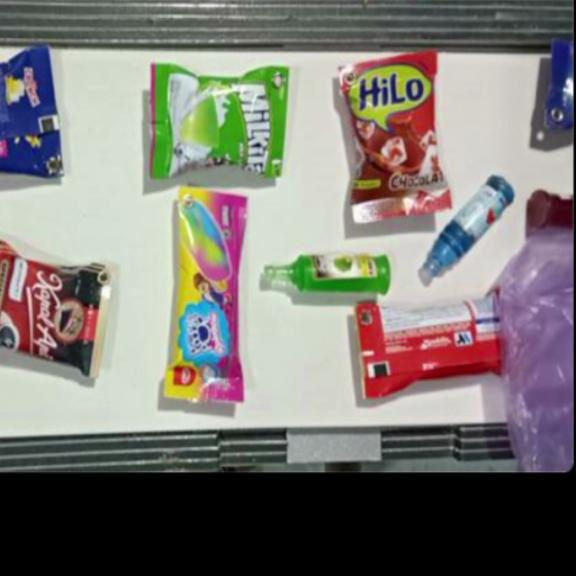Plastik: (338, 49, 452, 226), (164, 183, 248, 401), (500, 229, 573, 471), (356, 286, 504, 398), (150, 64, 288, 180), (0, 240, 110, 378), (422, 174, 515, 278), (0, 45, 65, 177), (263, 254, 391, 295), (544, 37, 574, 132), (526, 188, 574, 230)
